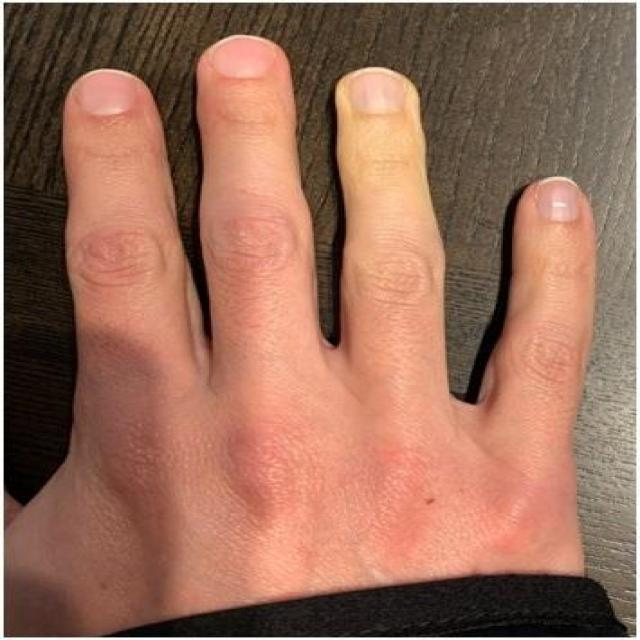raynauds: (347, 60, 421, 260)
